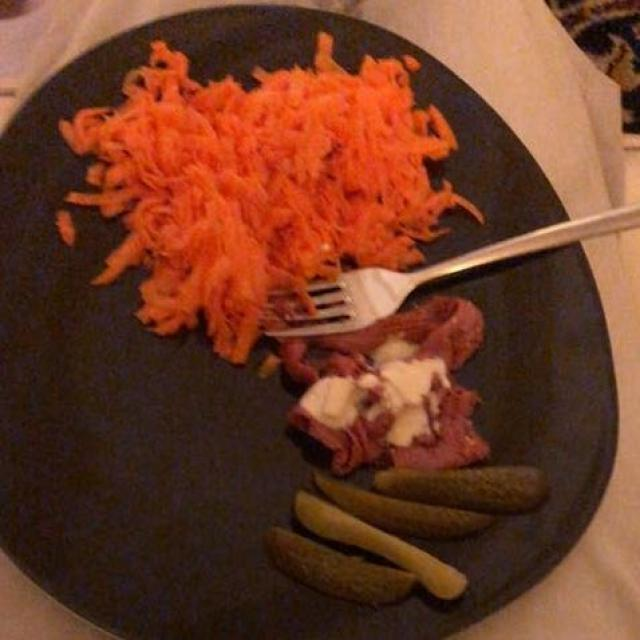carrot: (66, 53, 465, 357)
cucumber-pickled: (278, 461, 552, 602)
